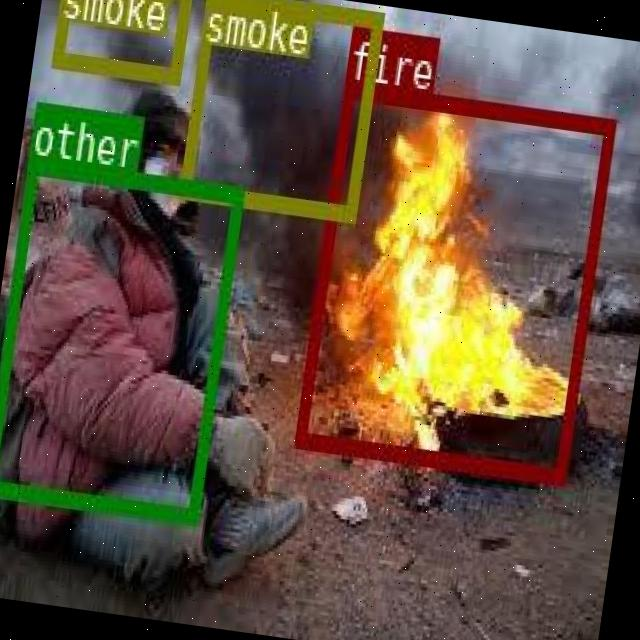fire: (294, 80, 615, 480)
smoke: (178, 0, 382, 219), (50, 0, 191, 83)
